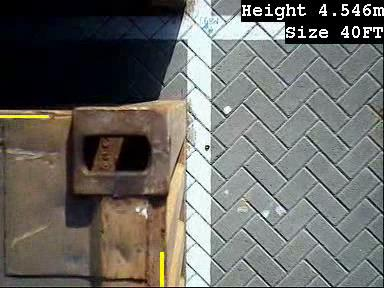groundmarker_2: (108, 199, 170, 242), (107, 58, 168, 101)
